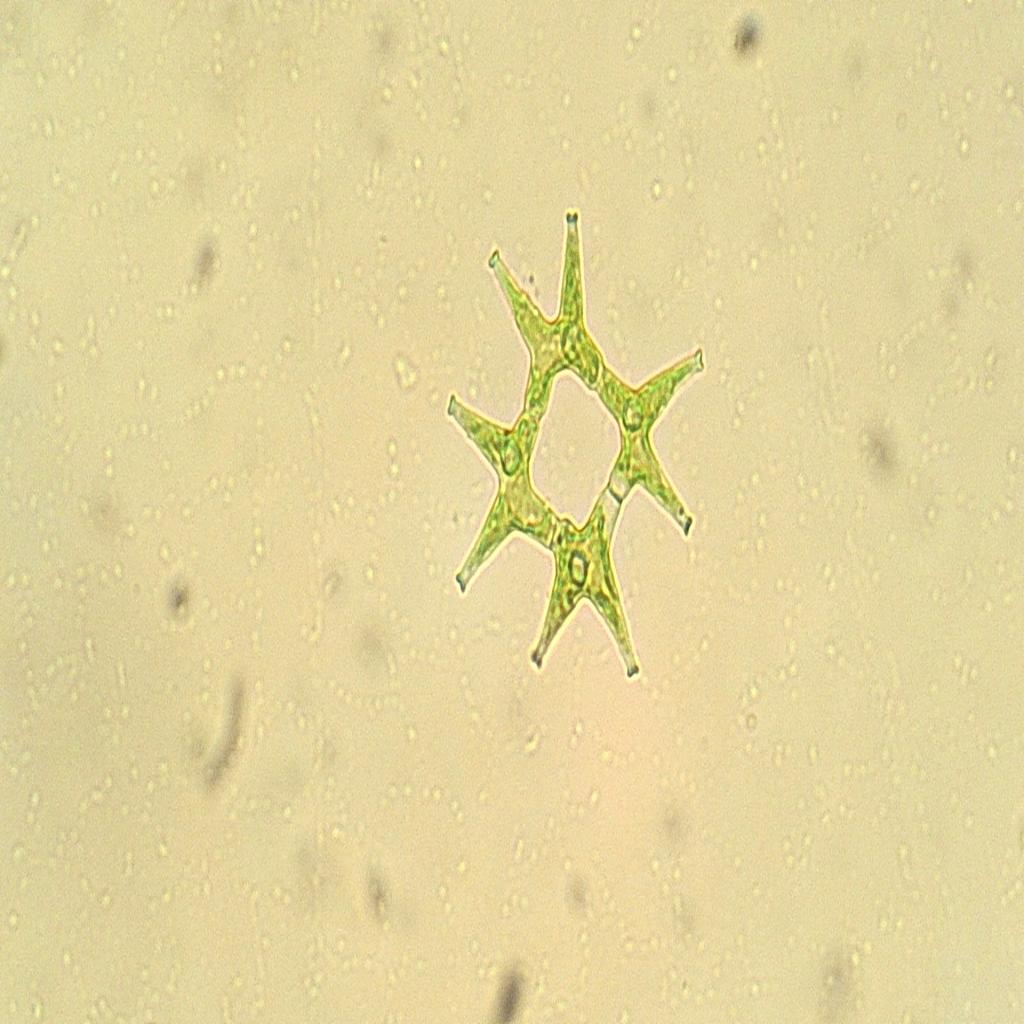Pediastrum_10: (418, 193, 729, 703)
